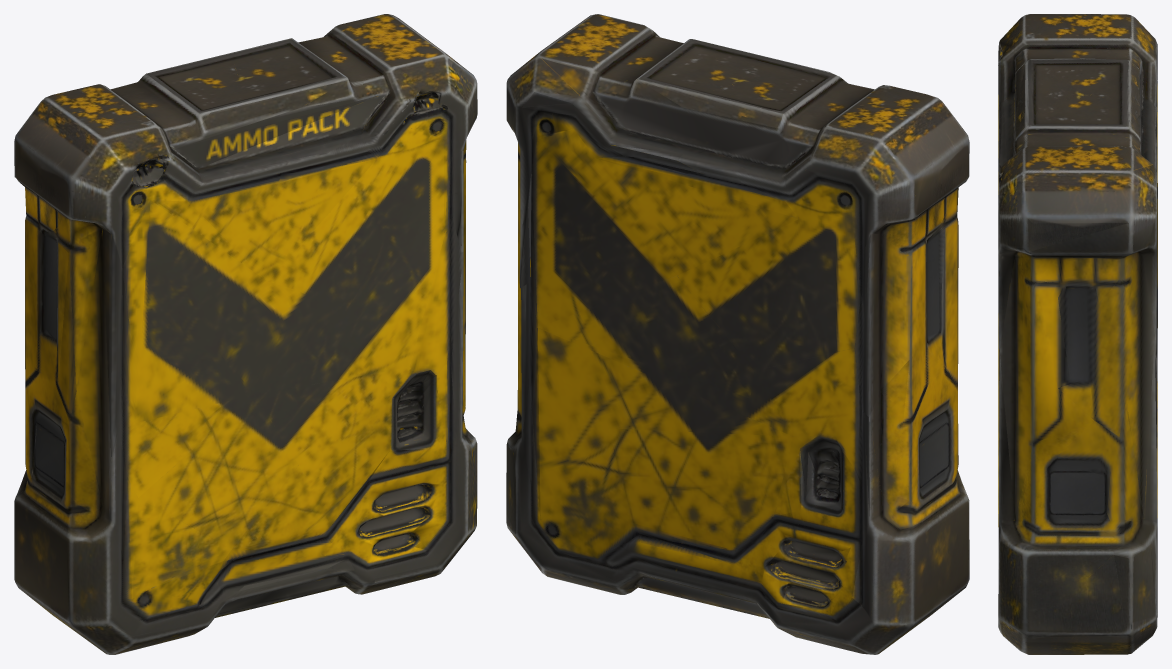
The model's file is Dm Ammo Crate.fbx.
The picture shows the model from 3 angles, left to right: view 1: azimuth 30°, elevation 25°; view 2: azimuth 150°, elevation 25°; view 3: azimuth 270°, elevation 25°; orthographic projection. The views are drawn at different scales.
Parts seen in each view (by area): view 1: output_unwrapped; view 2: output_unwrapped; view 3: output_unwrapped.
Boxes of the visible parts, x1,y1,x2,y2 form: output_unwrapped: (14, 14, 477, 654); output_unwrapped: (506, 14, 969, 654); output_unwrapped: (998, 14, 1157, 654).
Size of the model in its own units: 165 by 201 by 59.51.
1 material, 1 textured.
